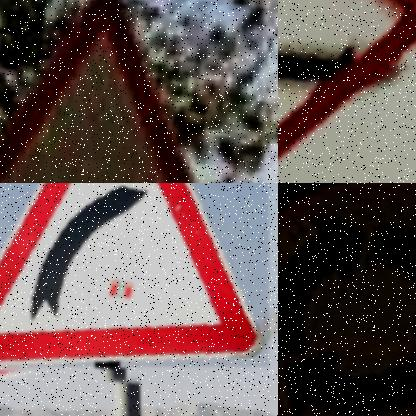No right turn: (278, 0, 416, 183)
Roundabout Ahead: (278, 183, 416, 416)
